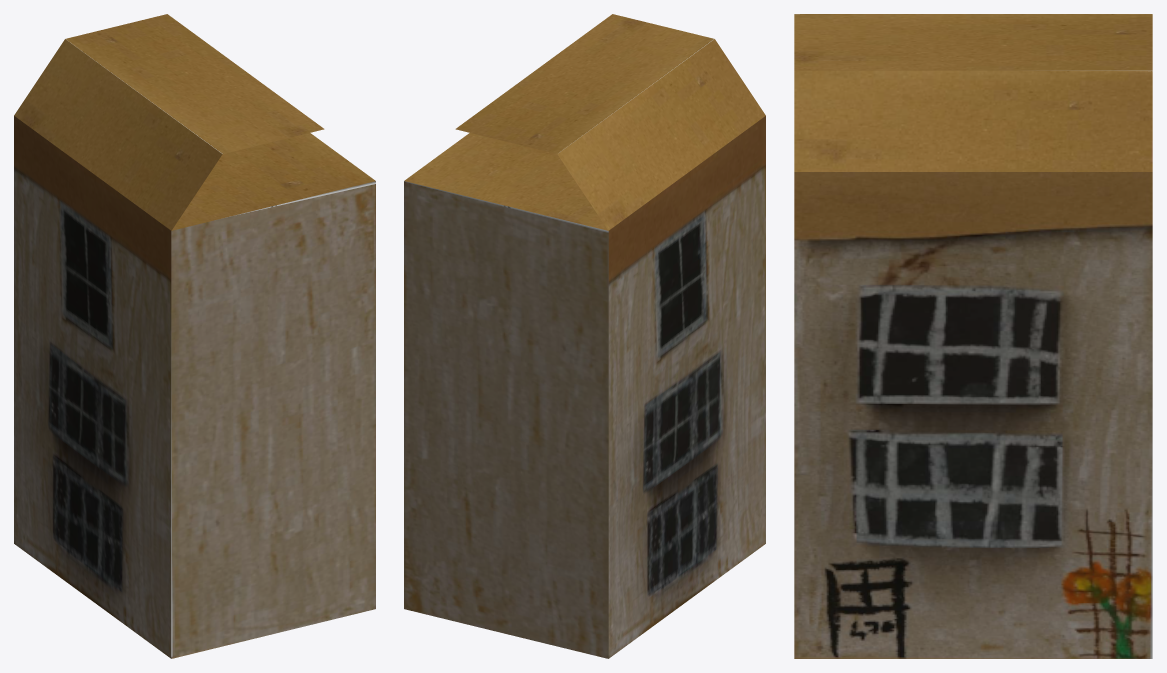
The picture shows the model from 3 angles, left to right: view 1: azimuth 30°, elevation 25°; view 2: azimuth 150°, elevation 25°; view 3: azimuth 270°, elevation 25°; orthographic projection. The views are drawn at different scales.
Parts seen in each view (by area): view 1: Cube; view 2: Cube; view 3: Cube.
Part boxes in pixels (left/top/right/bottom): Cube: left=14, top=14, right=375, bottom=658; Cube: left=404, top=14, right=765, bottom=658; Cube: left=794, top=14, right=1152, bottom=658.
Bounding box in the file's own units: 7.5 × 17.25 × 10.
Materials: 1 (1 with a texture image).
